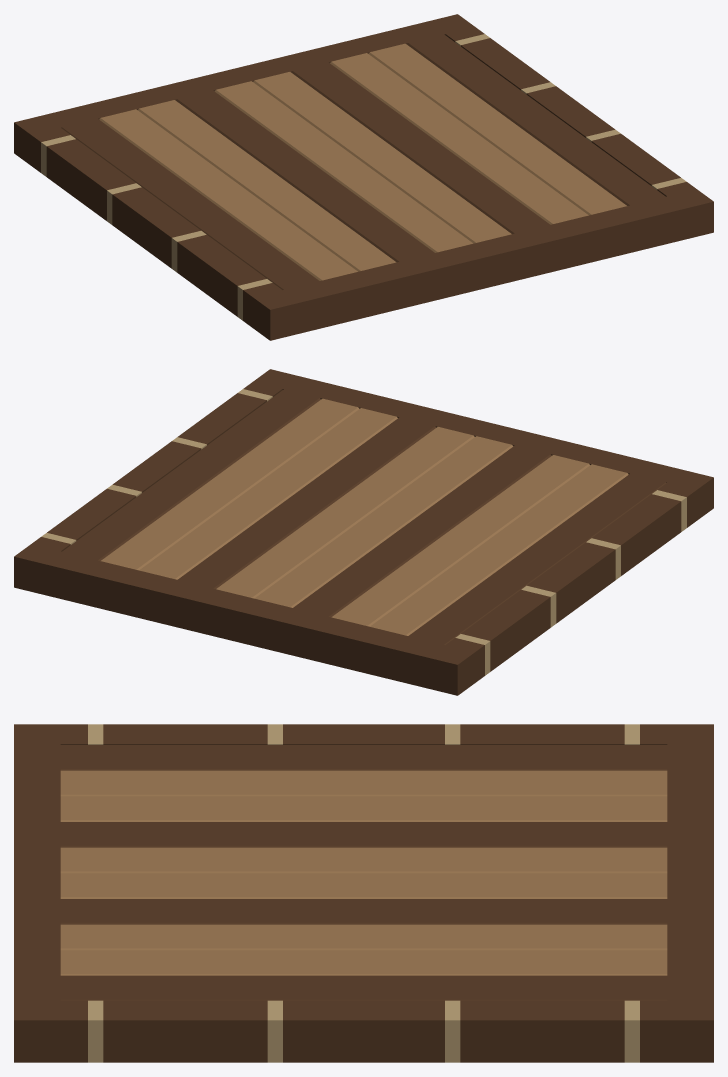
File: floor.glb
3 views of the same model, one above another, from view 1: azimuth 30°, elevation 25°; view 2: azimuth 150°, elevation 25°; view 3: azimuth 270°, elevation 25° (orthographic). The views are drawn at different scales.
Parts seen in each view (by area): view 1: floor_mesh; view 2: floor_mesh; view 3: floor_mesh.
Part boxes in pixels (x1=…): floor_mesh: x1=14, y1=14, x2=713, y2=340; floor_mesh: x1=14, y1=369, x2=713, y2=695; floor_mesh: x1=14, y1=724, x2=713, y2=1062.
Size of the model in its own units: 3 by 0.2 by 3.
